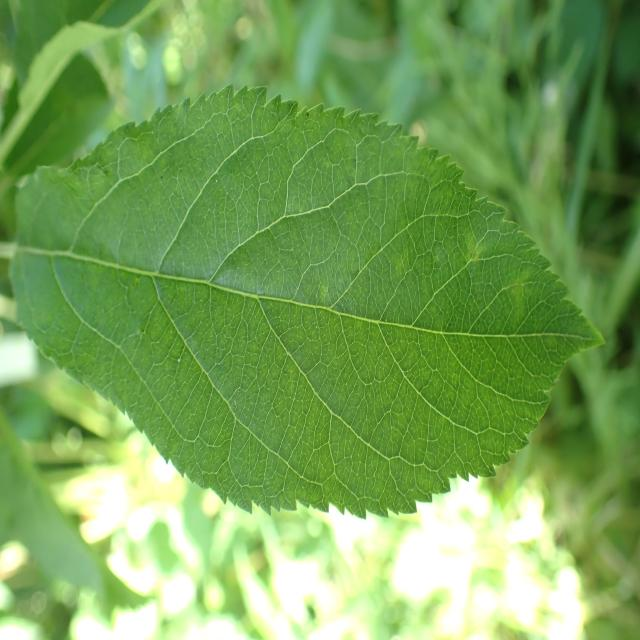scab: (37, 142, 567, 394)
